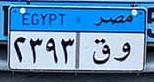2: (11, 34, 26, 66)
3: (27, 35, 45, 66), (60, 38, 75, 66)
9: (45, 37, 59, 69)
qaaf: (92, 37, 111, 67)
waw: (113, 39, 131, 63)
